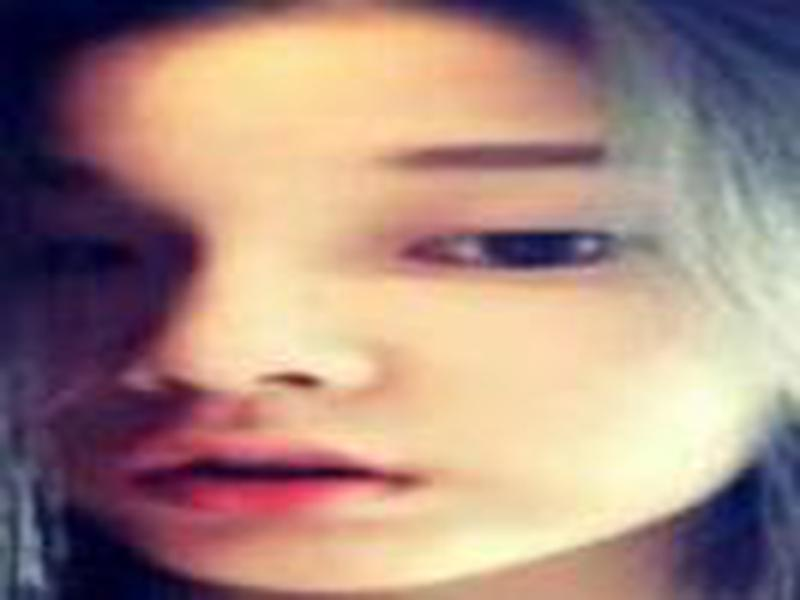without_mask: (25, 21, 742, 591)
